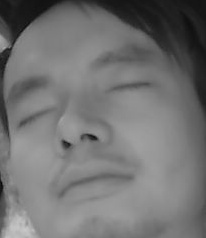blink: (107, 74, 148, 99), (16, 107, 57, 130)
mouth: (51, 158, 135, 206)
